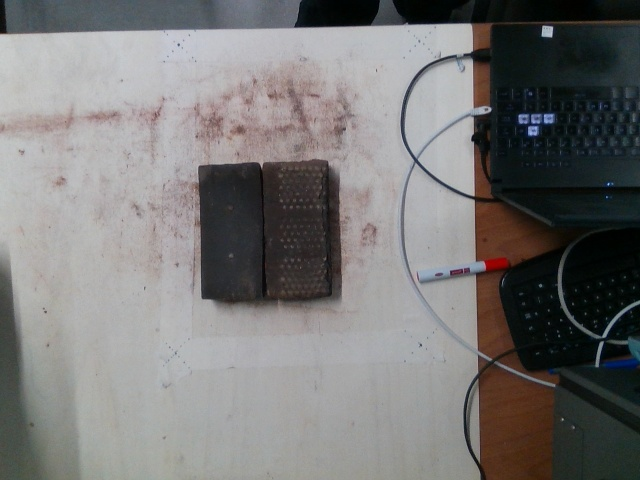brick: (197, 162, 260, 302)
brick-side: (262, 159, 329, 304)
